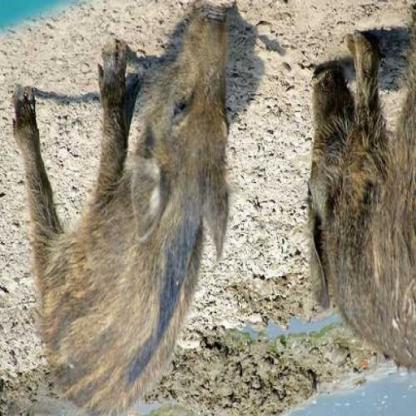boar: (14, 20, 234, 416)
